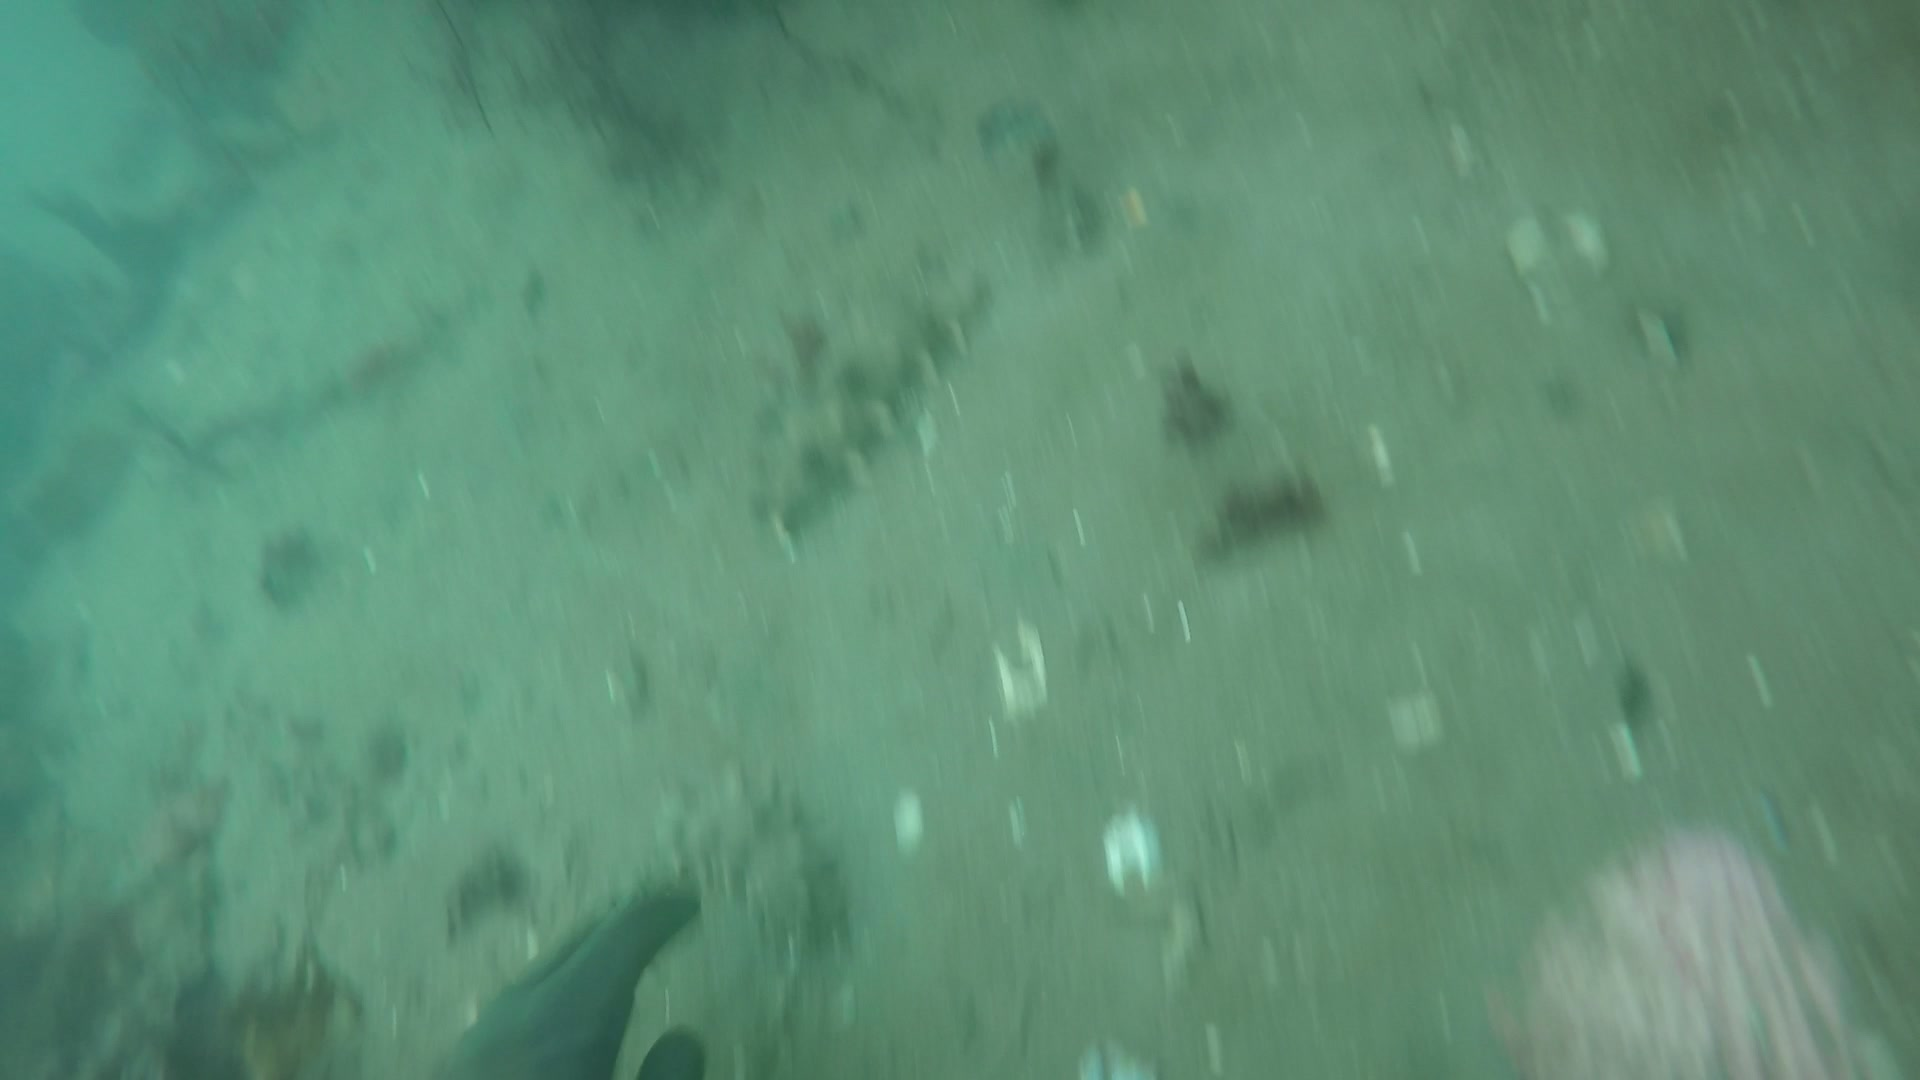holothurian: (740, 268, 981, 530)
scallop: (1534, 833, 1869, 1080)
